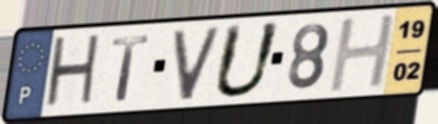8: (286, 21, 333, 92)
H: (326, 11, 399, 95), (41, 31, 103, 113)
T: (109, 33, 152, 104)
U: (209, 20, 285, 101)
V: (171, 24, 224, 103)
